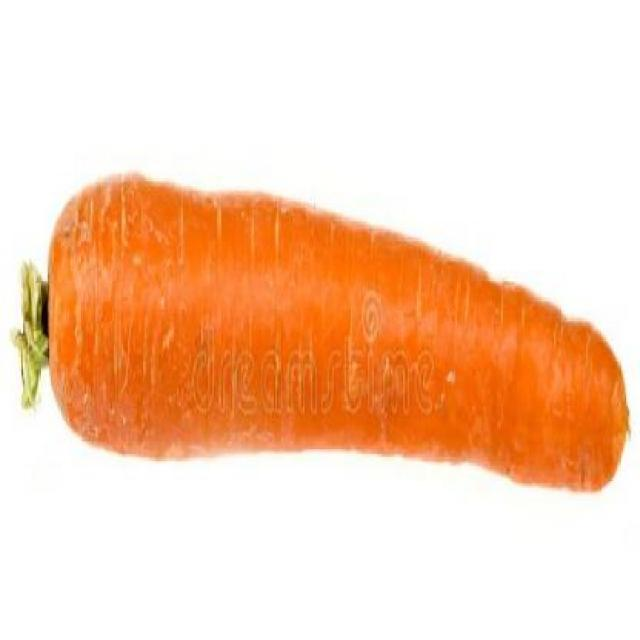carrot: (49, 167, 632, 500)
